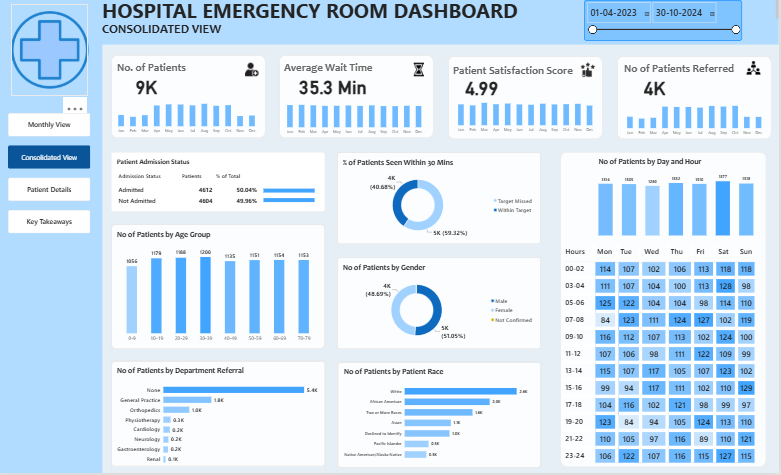

The dashboard page shown, as its layout file describes it:
{"tool":"powerbi","page":{"name":"Consolidated View","canvas":[2300,1400],"ordinal":1},"visuals":[{"type":"shape","box":[0,0,310,1400],"z":0},{"type":"group","id":"g1","title":"Group 2","box":[1640,442.5,637.5,957.5],"z":0,"group":"g14"},{"type":"shape","box":[1640,442.5,637.5,957.5],"z":0,"group":"g1"},{"type":"shape","box":[1001.2,455,600,271.5],"z":0,"group":"g2"},{"type":"group","id":"g2","title":"Group 2","box":[1001.2,455,600,271.5],"z":0,"group":"g16"},{"type":"shape","box":[335.9,456,593.3,176],"z":0,"group":"g11"},{"type":"shape","box":[336,668.2,629.2,368],"z":0,"group":"g3"},{"type":"group","id":"g3","title":"Group 2","box":[336,668.2,629.2,368],"z":0,"group":"g12"},{"type":"group","id":"g4","title":"Group 2","box":[1000,765,600,271.5],"z":0,"group":"g17"},{"type":"shape","box":[1000,765,600,271.5],"z":0,"group":"g4"},{"type":"shape","box":[335,1070,630,310],"z":0,"group":"g5"},{"type":"group","id":"g5","title":"Group 2","box":[335,1070,630,310],"z":0,"group":"g13"},{"type":"shape","box":[1000,1072.5,600,311.8],"z":0,"group":"g6"},{"type":"group","id":"g6","title":"Group 2","box":[1000,1072.5,600,311.8],"z":0,"group":"g18"},{"type":"shape","box":[310,0,1990,140],"z":1000},{"type":"pivotTable","title":"Patient Admission Status","fields":{"Rows":["Hospital ER_Data.Admission Status"],"Values":["Hospital ER_Data.No of Patients1","Hospital ER_Data.No of Patients"]},"box":[335,455,630,176],"z":1000,"group":"g11"},{"type":"clusteredColumnChart","fields":{"Category":["Hospital ER_Data.Age Group"],"Y":["Hospital ER_Data.No of Patients"]},"box":[335,669.2,630,367.5],"z":1000,"group":"g12"},{"type":"textbox","box":[310,0,1990,70],"z":2000},{"type":"barChart","fields":{"Category":["Hospital ER_Data.Admission Status"],"Y":["Hospital ER_Data.No of Patients"]},"box":[767,525,228,110],"z":2000,"group":"g11"},{"type":"textbox","box":[310,70,357.5,57.5],"z":3000},{"type":"group","id":"g7","title":"Group 1","box":[327.5,170,462.5,250],"z":4000},{"type":"shape","box":[335,170,455,244.9],"z":5000,"group":"g7"},{"type":"group","id":"g8","title":"Group 1","box":[824.2,170,461.7,252.4],"z":5000},{"type":"shape","box":[830.9,170,455,244.9],"z":5000,"group":"g8"},{"type":"shape","box":[1326.7,172.5,455,244.9],"z":5000,"group":"g9"},{"type":"shape","box":[1822.5,172.5,455,244.9],"z":5000,"group":"g10"},{"type":"group","id":"g9","title":"Group 1","box":[1326.3,172.5,455.4,244.9],"z":6000},{"type":"cardVisual","fields":{"Data":["Hospital ER_Data.No of Patients"]},"box":[355,219.4,172.5,89.5],"z":6000,"group":"g7"},{"type":"cardVisual","fields":{"Data":["Hospital ER_Data.Average Wait Time"]},"box":[858.8,220,257.5,90],"z":6000,"group":"g8"},{"type":"cardVisual","fields":{"Data":["Avg(Hospital ER_Data.Patient Satisfaction Score)"]},"box":[1334.3,221.9,180.4,89.5],"z":6000,"group":"g9"},{"type":"cardVisual","fields":{"Data":["Hospital ER_Data.No of Patients Referred"]},"box":[1843.4,221.9,180.4,89.5],"z":6000,"group":"g10"},{"type":"group","id":"g10","title":"Group 1","box":[1822.5,172.5,455,252.4],"z":7000},{"type":"textbox","box":[355,186.5,267.5,63.6],"z":7000,"group":"g7"},{"type":"textbox","box":[845.1,186.5,279.8,63.6],"z":7000,"group":"g8"},{"type":"textbox","box":[1843.7,191.3,357.5,62.5],"z":7000,"group":"g10"},{"type":"textbox","box":[1340,196.3,412.5,60],"z":7000,"group":"g9"},{"type":"columnChart","fields":{"Category":["Date Table.Month Name"],"Y":["Avg(Hospital ER_Data.Patient Satisfaction Score)"]},"box":[1326.3,286.3,455,130],"z":8000,"group":"g9"},{"type":"columnChart","fields":{"Category":["Date Table.Month Name"],"Y":["Hospital ER_Data.No of Patients"]},"box":[327.5,290,462.5,130],"z":8000,"group":"g7"},{"type":"columnChart","fields":{"Category":["Date Table.Month Name"],"Y":["Avg(Hospital ER_Data.Patient Waittime)"]},"box":[824.2,292.4,455,130],"z":8000,"group":"g8"},{"type":"columnChart","fields":{"Category":["Date Table.Month Name"],"Y":["Hospital ER_Data.No of Patients Referred"]},"box":[1822.5,294.9,455,130],"z":8000,"group":"g10"},{"type":"group","id":"g11","title":"Group 2","box":[335,455,660,180],"z":8000},{"type":"group","id":"g12","title":"Group 3","box":[335,668.2,630.2,368.5],"z":9000},{"type":"group","id":"g13","title":"Group 3","box":[335,1070,630,310],"z":10000},{"type":"clusteredBarChart","fields":{"Category":["Hospital ER_Data.Department Referral"],"Y":["Hospital ER_Data.No of Patients"]},"box":[335.7,1069,631,331],"z":11000},{"type":"group","id":"g14","title":"Group 3","box":[1640,442.5,637.5,957.5],"z":12000},{"type":"group","id":"g15","title":"Group 4","box":[1001.2,455,600,270],"z":13000},{"type":"group","id":"g16","title":"Group 3","box":[1001.2,455,600,270],"z":13500,"group":"g15"},{"type":"group","id":"g17","title":"Group 3","box":[1000,765,600,270],"z":13500,"group":"g19"},{"type":"group","id":"g18","title":"Group 3","box":[1000,1072.5,600,310],"z":13500,"group":"g20"},{"type":"donutChart","title":"% of Patients Seen Within 30 Mins","fields":{"Category":["Hospital ER_Data.Waittime Status"],"Y":["Hospital ER_Data.No of Patients"]},"box":[1001.2,455,600,270],"z":14000,"group":"g15"},{"type":"group","id":"g19","title":"Group 4","box":[1000,765,600,270],"z":14000},{"type":"donutChart","title":"No of Patients by Gender","fields":{"Category":["Hospital ER_Data.Patient Gender"],"Y":["Hospital ER_Data.No of Patients"]},"box":[1000,765,600,270],"z":14000,"group":"g19"},{"type":"pivotTable","fields":{"Columns":["Date Table.Day Name"],"Rows":["Hospital ER_Data.Waittime Interval"],"Values":["Hospital ER_Data.No of Patients"]},"box":[1650,716.3,615,682.5],"z":14005,"group":"g14"},{"type":"group","id":"g20","title":"Group 4","box":[1000,1072.5,600,310],"z":15000},{"type":"clusteredBarChart","fields":{"Category":["Hospital ER_Data.Patient Race"],"Y":["Hospital ER_Data.No of Patients"]},"box":[1002.5,1070,597.5,315],"z":16000},{"type":"slicer","fields":{"Values":["Date Table.Date"]},"box":[1725,10,465,120],"z":17000},{"type":"image","box":[40,20,227.5,270],"z":18000},{"type":"image","box":[730,187.5,40,50],"z":19000},{"type":"columnChart","title":"No of Patients by Day and Hour","fields":{"Category":["Date Table.Day Name"],"Y":["Hospital ER_Data.No of Patients"]},"box":[1752.5,456.3,490,262.5],"z":19001,"group":"g1"},{"type":"image","box":[1220,187.5,40,50],"z":20000},{"type":"image","box":[1710,187.5,57.5,50],"z":21000},{"type":"image","box":[2200,187.5,50,40],"z":22000},{"type":"pageNavigator","box":[32.5,342.5,242.5,357.5],"z":23000}]}

Visuals, with their boxes on the page's 2300x1400 design canvas (x1, y1, x2, y2). These are canvas units, not pixel positions in the 781x475 screenshot, which may show the page scaled, cropped or inside an application window:
shape: (x1=0, y1=0, x2=310, y2=1400)
"Group 2" group: (x1=1640, y1=442, x2=2278, y2=1400)
shape: (x1=1640, y1=442, x2=2278, y2=1400)
shape: (x1=1001, y1=455, x2=1601, y2=726)
"Group 2" group: (x1=1001, y1=455, x2=1601, y2=726)
shape: (x1=336, y1=456, x2=929, y2=632)
shape: (x1=336, y1=668, x2=965, y2=1036)
"Group 2" group: (x1=336, y1=668, x2=965, y2=1036)
"Group 2" group: (x1=1000, y1=765, x2=1600, y2=1036)
shape: (x1=1000, y1=765, x2=1600, y2=1036)
shape: (x1=335, y1=1070, x2=965, y2=1380)
"Group 2" group: (x1=335, y1=1070, x2=965, y2=1380)
shape: (x1=1000, y1=1072, x2=1600, y2=1384)
"Group 2" group: (x1=1000, y1=1072, x2=1600, y2=1384)
shape: (x1=310, y1=0, x2=2300, y2=140)
"Patient Admission Status" pivotTable: (x1=335, y1=455, x2=965, y2=631)
clusteredColumnChart - Hospital ER_Data.Age Group x Hospital ER_Data.No of Patients: (x1=335, y1=669, x2=965, y2=1037)
textbox: (x1=310, y1=0, x2=2300, y2=70)
barChart - Hospital ER_Data.Admission Status x Hospital ER_Data.No of Patients: (x1=767, y1=525, x2=995, y2=635)
textbox: (x1=310, y1=70, x2=668, y2=128)
"Group 1" group: (x1=328, y1=170, x2=790, y2=420)
shape: (x1=335, y1=170, x2=790, y2=415)
"Group 1" group: (x1=824, y1=170, x2=1286, y2=422)
shape: (x1=831, y1=170, x2=1286, y2=415)
shape: (x1=1327, y1=172, x2=1782, y2=417)
shape: (x1=1822, y1=172, x2=2278, y2=417)
"Group 1" group: (x1=1326, y1=172, x2=1782, y2=417)
cardVisual - Hospital ER_Data.No of Patients: (x1=355, y1=219, x2=528, y2=309)
cardVisual - Hospital ER_Data.Average Wait Time: (x1=859, y1=220, x2=1116, y2=310)
cardVisual - Avg(Hospital ER_Data.Patient Satisfaction Score): (x1=1334, y1=222, x2=1515, y2=311)
cardVisual - Hospital ER_Data.No of Patients Referred: (x1=1843, y1=222, x2=2024, y2=311)
"Group 1" group: (x1=1822, y1=172, x2=2278, y2=425)
textbox: (x1=355, y1=186, x2=622, y2=250)
textbox: (x1=845, y1=186, x2=1125, y2=250)
textbox: (x1=1844, y1=191, x2=2201, y2=254)
textbox: (x1=1340, y1=196, x2=1752, y2=256)
columnChart - Date Table.Month Name x Avg(Hospital ER_Data.Patient Satisfaction Score): (x1=1326, y1=286, x2=1781, y2=416)
columnChart - Date Table.Month Name x Hospital ER_Data.No of Patients: (x1=328, y1=290, x2=790, y2=420)
columnChart - Date Table.Month Name x Avg(Hospital ER_Data.Patient Waittime): (x1=824, y1=292, x2=1279, y2=422)
columnChart - Date Table.Month Name x Hospital ER_Data.No of Patients Referred: (x1=1822, y1=295, x2=2278, y2=425)
"Group 2" group: (x1=335, y1=455, x2=995, y2=635)
"Group 3" group: (x1=335, y1=668, x2=965, y2=1037)
"Group 3" group: (x1=335, y1=1070, x2=965, y2=1380)
clusteredBarChart - Hospital ER_Data.Department Referral x Hospital ER_Data.No of Patients: (x1=336, y1=1069, x2=967, y2=1400)
"Group 3" group: (x1=1640, y1=442, x2=2278, y2=1400)
"Group 4" group: (x1=1001, y1=455, x2=1601, y2=725)
"Group 3" group: (x1=1001, y1=455, x2=1601, y2=725)
"Group 3" group: (x1=1000, y1=765, x2=1600, y2=1035)
"Group 3" group: (x1=1000, y1=1072, x2=1600, y2=1382)
"% of Patients Seen Within 30 Mins" donutChart: (x1=1001, y1=455, x2=1601, y2=725)
"Group 4" group: (x1=1000, y1=765, x2=1600, y2=1035)
"No of Patients by Gender" donutChart: (x1=1000, y1=765, x2=1600, y2=1035)
pivotTable - Date Table.Day Name x Hospital ER_Data.Waittime Interval: (x1=1650, y1=716, x2=2265, y2=1399)
"Group 4" group: (x1=1000, y1=1072, x2=1600, y2=1382)
clusteredBarChart - Hospital ER_Data.Patient Race x Hospital ER_Data.No of Patients: (x1=1002, y1=1070, x2=1600, y2=1385)
slicer - Date Table.Date: (x1=1725, y1=10, x2=2190, y2=130)
image: (x1=40, y1=20, x2=268, y2=290)
image: (x1=730, y1=188, x2=770, y2=238)
"No of Patients by Day and Hour" columnChart: (x1=1752, y1=456, x2=2242, y2=719)
image: (x1=1220, y1=188, x2=1260, y2=238)
image: (x1=1710, y1=188, x2=1768, y2=238)
image: (x1=2200, y1=188, x2=2250, y2=228)
pageNavigator: (x1=32, y1=342, x2=275, y2=700)
